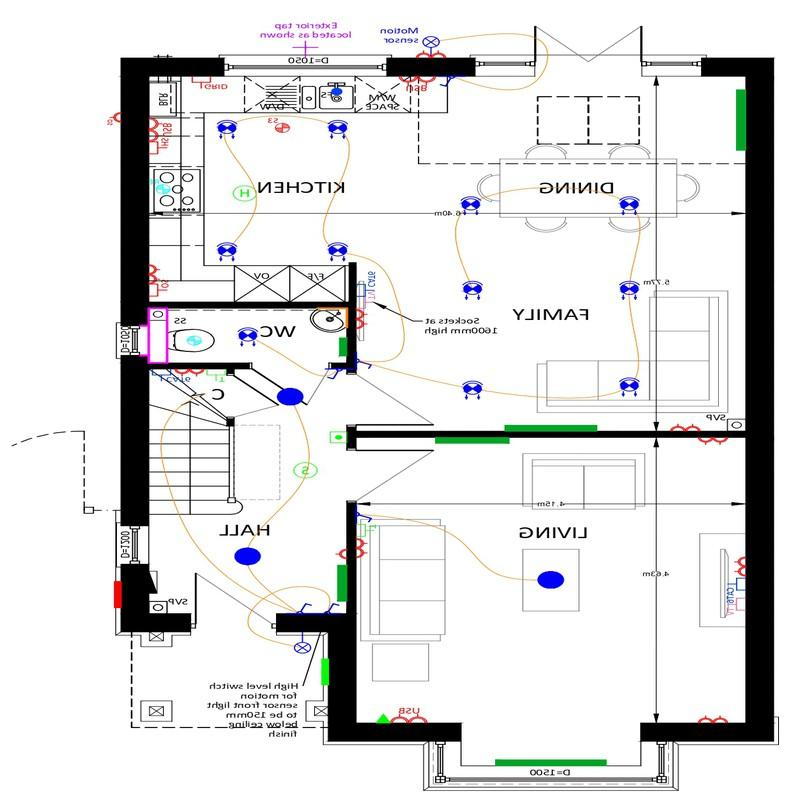BT Entry Point: (370, 711, 391, 726)
Cat 6 Data Socket: (149, 365, 173, 385), (722, 576, 749, 592), (354, 280, 380, 296)
Ceiling Mounted Continuous Extract Fan With Boost Mode Activated By Light Switch: (181, 330, 213, 349)
Ceiling Mounted Continuous Extract Fan With Local Boost Switch: (260, 114, 300, 139)
Co-Ax TV Socket: (724, 595, 745, 619), (353, 295, 383, 310)
Double Socket: (693, 709, 733, 725), (409, 45, 453, 59), (147, 261, 172, 285), (174, 367, 206, 384), (665, 421, 705, 433), (354, 307, 373, 332), (354, 537, 374, 560), (696, 434, 733, 445), (733, 552, 747, 578)
Electric Meter Box: (110, 578, 122, 619)
External Wall Light: (293, 631, 312, 663), (422, 32, 440, 59)
Gas Meter Box: (316, 653, 332, 696)
Grid Switch: (187, 76, 233, 93)
Hob Switch: (148, 142, 173, 156)
Light Switch: (318, 597, 344, 614), (288, 599, 314, 614), (356, 507, 379, 523), (356, 354, 375, 372), (440, 74, 459, 90), (326, 368, 345, 383)
Low Energy Downlighter: (611, 274, 647, 307), (456, 274, 488, 307), (457, 191, 489, 222), (614, 374, 646, 405), (231, 324, 263, 355), (210, 116, 241, 144), (321, 116, 353, 141), (325, 238, 352, 267), (458, 378, 488, 403), (617, 192, 644, 219), (213, 240, 240, 265)
Low Energy Pendant Light: (533, 564, 571, 594), (232, 544, 265, 569), (276, 385, 309, 407)
Mains Wired Smoke Detector: (288, 455, 326, 484)
Outside Socket: (106, 108, 121, 129)
Outside Tap: (287, 35, 327, 57)
Oven Switch: (148, 281, 173, 298)
Programmable Room Thermostat: (326, 426, 348, 449)
Radiator: (491, 754, 609, 769), (496, 421, 610, 433), (730, 82, 746, 160), (425, 435, 512, 447), (325, 563, 351, 601), (336, 331, 346, 363)
Recirculating Extractor Fan: (147, 172, 175, 207)
Single Socket: (330, 540, 349, 565)
Telephone Socket: (204, 365, 230, 385), (353, 523, 386, 537)
USB Double Socket: (147, 118, 178, 142), (396, 76, 438, 92), (392, 707, 428, 723)
Water Entry Position: (327, 83, 347, 99)
